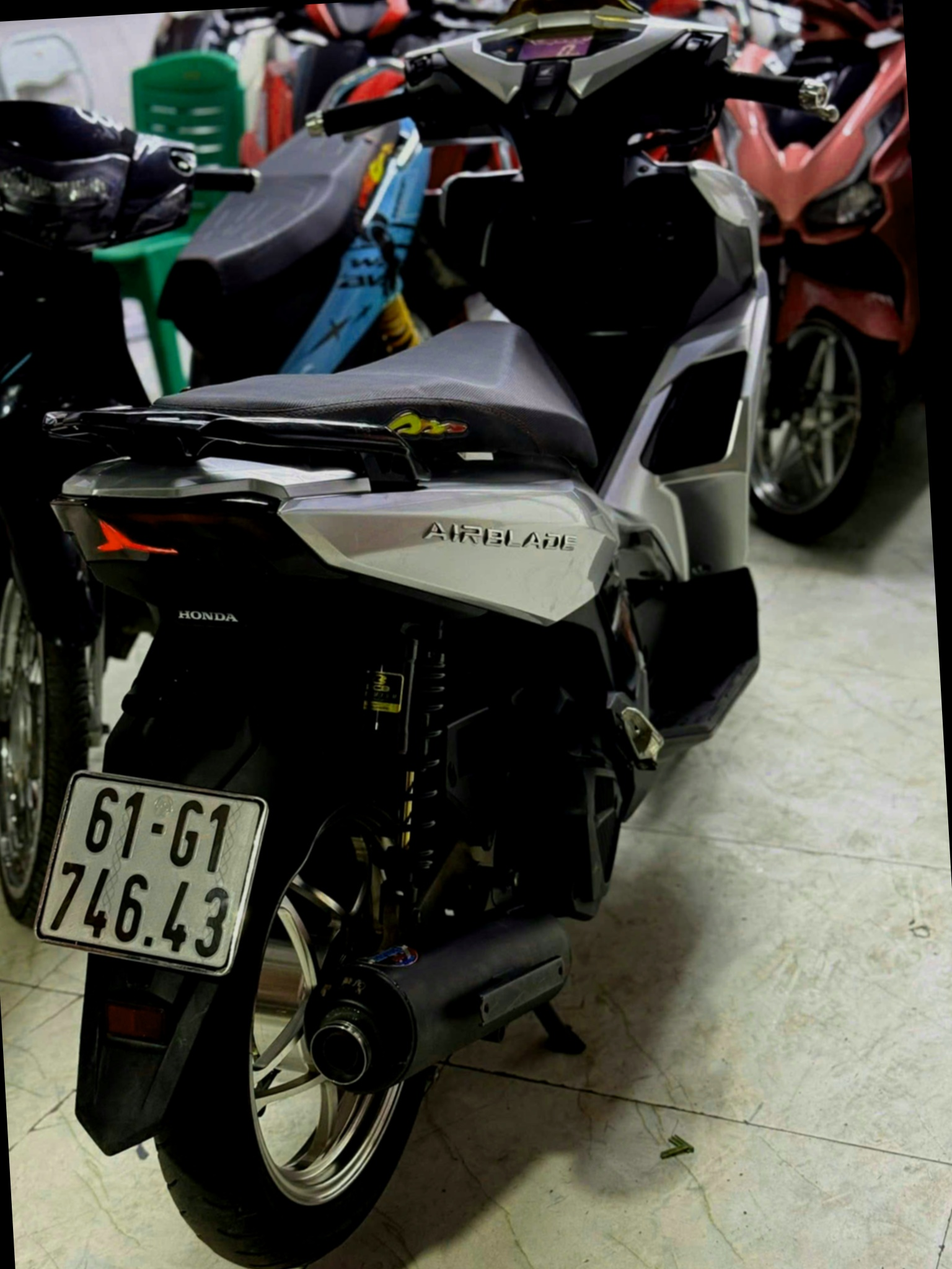Bien-so: (28, 749, 281, 995)
